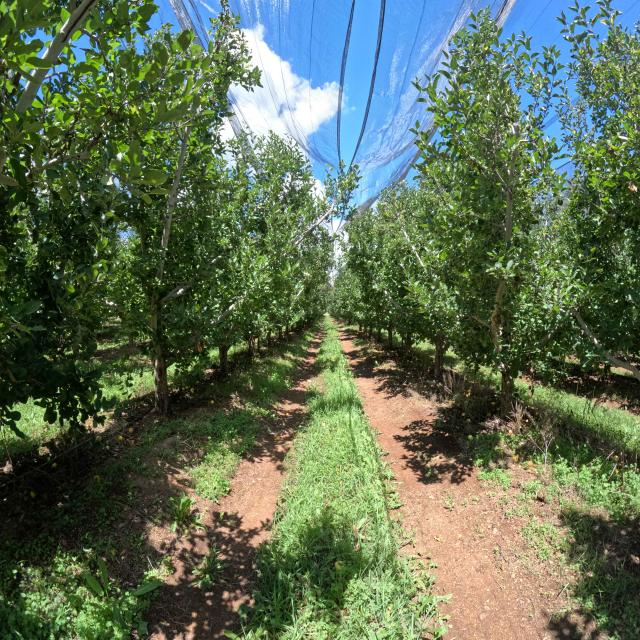-FireBlight-: (198, 343, 202, 352)
